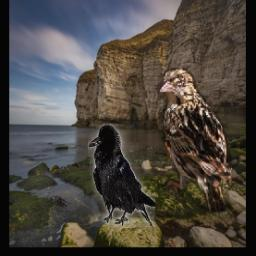Crow: (89, 125, 156, 228)
Sparrow: (158, 69, 233, 213)
